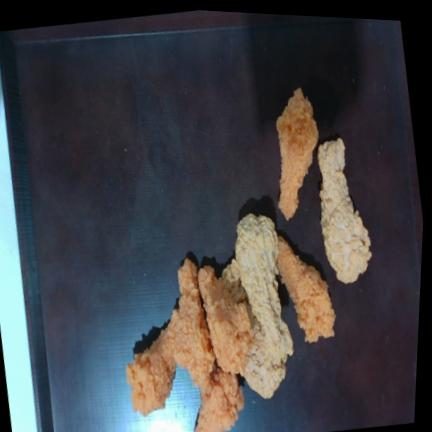chicken: (235, 213, 293, 365), (318, 138, 371, 283), (168, 259, 215, 390), (277, 236, 335, 342), (198, 266, 253, 375), (276, 88, 318, 220), (126, 328, 176, 416), (194, 366, 244, 432)
